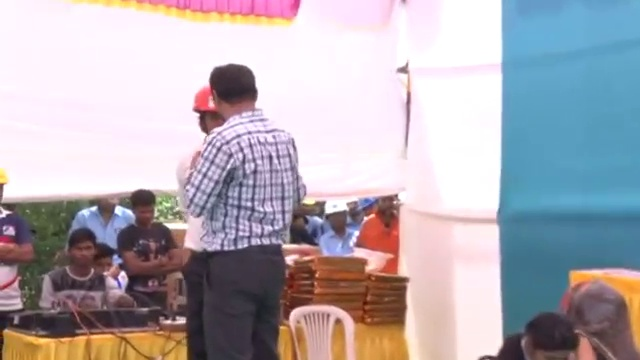helmet: (350, 247, 394, 273), (191, 86, 220, 116), (323, 199, 349, 216), (0, 162, 11, 187)
helmet_off: (571, 285, 632, 347), (209, 63, 261, 122), (517, 316, 583, 359), (66, 227, 99, 272), (127, 192, 161, 227), (93, 241, 119, 281), (371, 199, 398, 228), (94, 199, 119, 219)
helmet_on: (191, 85, 228, 136), (323, 199, 350, 237), (0, 162, 13, 217)
person: (185, 62, 306, 356), (176, 89, 226, 360), (120, 192, 186, 294), (39, 227, 106, 315), (0, 166, 35, 333), (351, 198, 402, 274), (65, 199, 134, 249), (318, 199, 359, 256)
